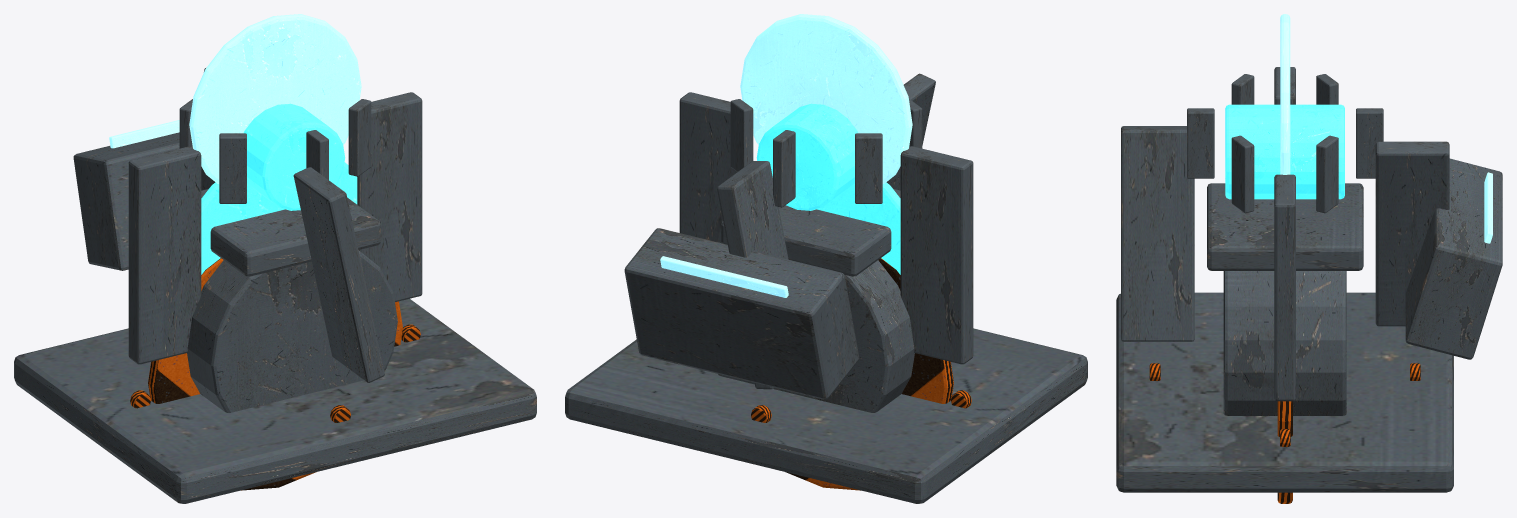
Rendered from archive_computer.glb.
The picture shows the model from 3 angles, left to right: view 1: azimuth 30°, elevation 25°; view 2: azimuth 150°, elevation 25°; view 3: azimuth 270°, elevation 25°; orthographic projection.
Parts seen in each view (by area): view 1: ComputerBase, ComputerPedestal, DataCoreHalo, ComputerFin_4.71238898038469, ComputerFin_1.5707963267948966, ComputerFin_0, ComputerControlDesk, ArchiveDataCore, ComputerCoreCradle, ComputerRingUpper, ComputerRingLower, DataCoreVane_5.235987755982989 (+3 smaller); view 2: ComputerBase, ComputerControlDesk, DataCoreHalo, ComputerFin_4.71238898038469, ComputerPedestal, ComputerFin_1.5707963267948966, ArchiveDataCore, ComputerCoreCradle, ComputerFin_3.141592653589793, ComputerRingLower, ComputerRingUpper, DataCoreVane_4.1887902047863905 (+4 smaller); view 3: ComputerBase, ComputerFin_0, ComputerPedestal, ComputerControlDesk, ComputerFin_3.141592653589793, ComputerCoreCradle, ArchiveDataCore, ComputerFin_1.5707963267948966, DataCoreVane_0, DataCoreHalo, DataCoreVane_1.0471975511965976, DataCoreVane_3.141592653589793 (+6 smaller).
Part boxes in pixels (<box>): ComputerBase: <box>14,298,536,503</box>; ComputerPedestal: <box>187,250,397,412</box>; DataCoreHalo: <box>189,14,361,183</box>; ComputerFin_4.71238898038469: <box>128,146,201,364</box>; ComputerFin_1.5707963267948966: <box>357,92,422,302</box>; ComputerFin_0: <box>293,167,384,382</box>; ComputerControlDesk: <box>73,132,179,270</box>; ArchiveDataCore: <box>243,103,345,210</box>; ComputerCoreCradle: <box>201,188,380,276</box>; ComputerRingUpper: <box>201,162,357,274</box>; ComputerRingLower: <box>148,258,402,490</box>; DataCoreVane_5.235987755982989: <box>219,133,246,203</box>; ComputerBase: <box>565,328,1087,503</box>; ComputerControlDesk: <box>624,228,859,399</box>; DataCoreHalo: <box>740,14,912,183</box>; ComputerFin_4.71238898038469: <box>900,146,973,364</box>; ComputerPedestal: <box>718,260,914,412</box>; ComputerFin_1.5707963267948966: <box>679,92,736,243</box>; ArchiveDataCore: <box>756,103,858,210</box>; ComputerCoreCradle: <box>721,188,900,276</box>; ComputerFin_3.141592653589793: <box>717,161,788,389</box>; ComputerRingLower: <box>785,258,953,490</box>; ComputerRingUpper: <box>817,182,900,274</box>; DataCoreVane_4.1887902047863905: <box>855,133,882,203</box>; ComputerBase: <box>1116,292,1453,492</box>; ComputerFin_0: <box>1121,126,1194,341</box>; ComputerPedestal: <box>1223,271,1346,415</box>; ComputerControlDesk: <box>1405,158,1502,359</box>; ComputerFin_3.141592653589793: <box>1375,141,1449,326</box>; ComputerCoreCradle: <box>1207,183,1363,270</box>; ArchiveDataCore: <box>1225,104,1344,199</box>; ComputerFin_1.5707963267948966: <box>1274,174,1295,401</box>; DataCoreVane_0: <box>1187,108,1214,178</box>; DataCoreHalo: <box>1280,14,1290,174</box>; DataCoreVane_1.0471975511965976: <box>1231,135,1254,213</box>; DataCoreVane_3.141592653589793: <box>1356,108,1383,178</box>.
Size of the model in its own units: 2.7 by 3.37 by 2.52.
5 materials, 5 textured.
